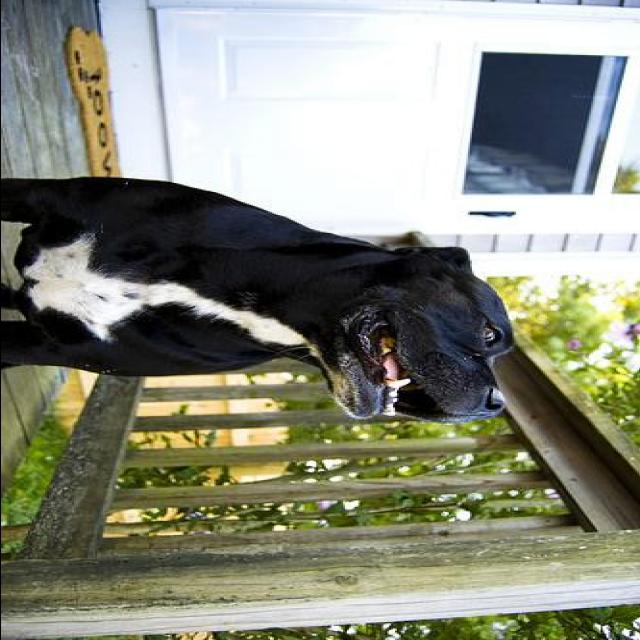staffordshire_bullterrier: (2, 175, 513, 424)
